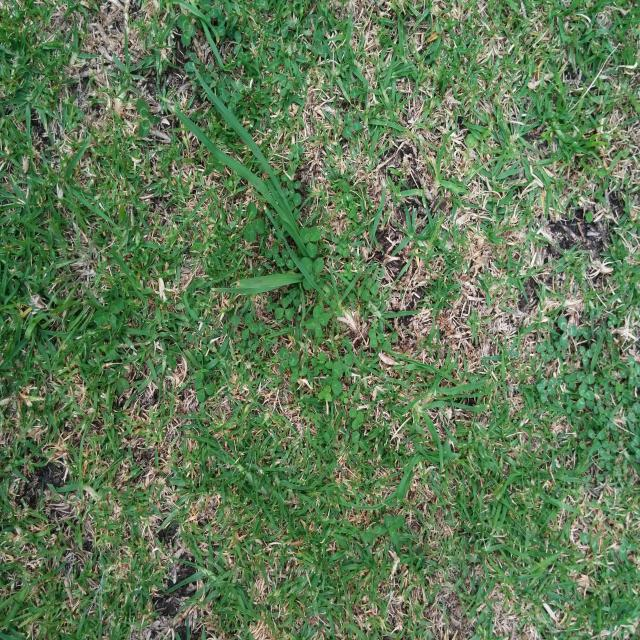Four Leaf Clover: (304, 305, 330, 337)
